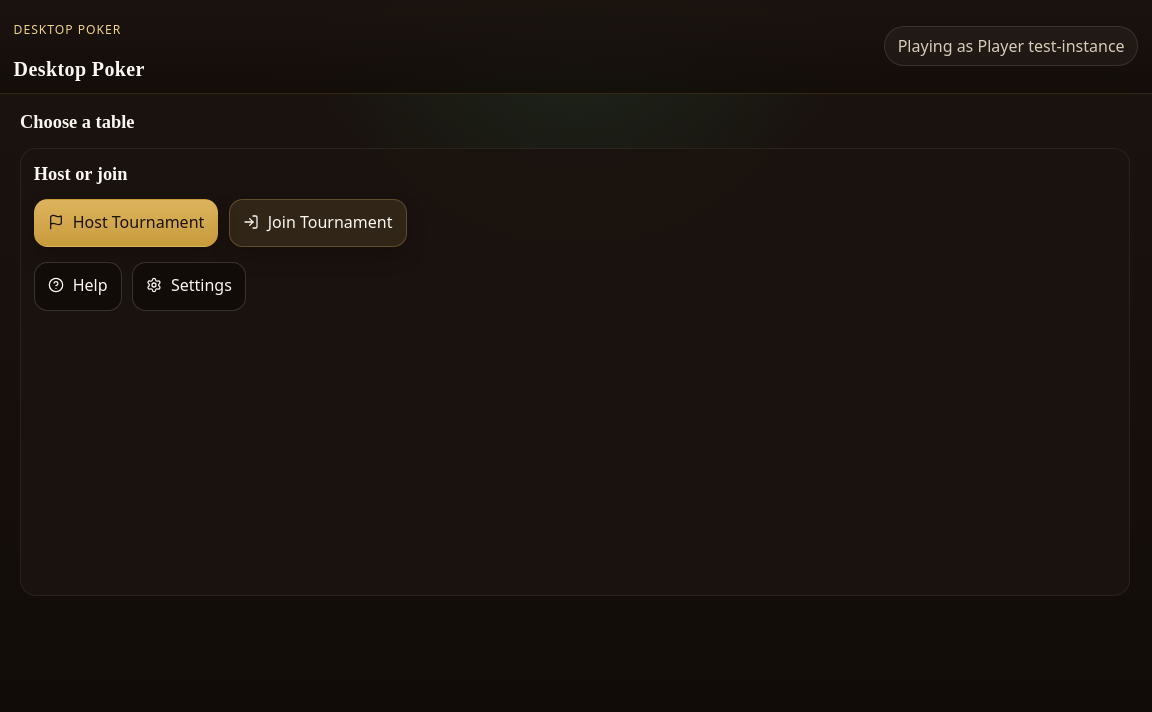
AppShell integration (host and lobby) › moves from home to host setup and keeps the edited host draft in the lobby shell
This screenshot has width=1152, height=712.
Check: the heading "Choose a table" is shown, box left=20, top=109, right=134, bottom=136
Click the link "Host Tournament" at (126, 223), box left=34, top=198, right=218, bottom=247
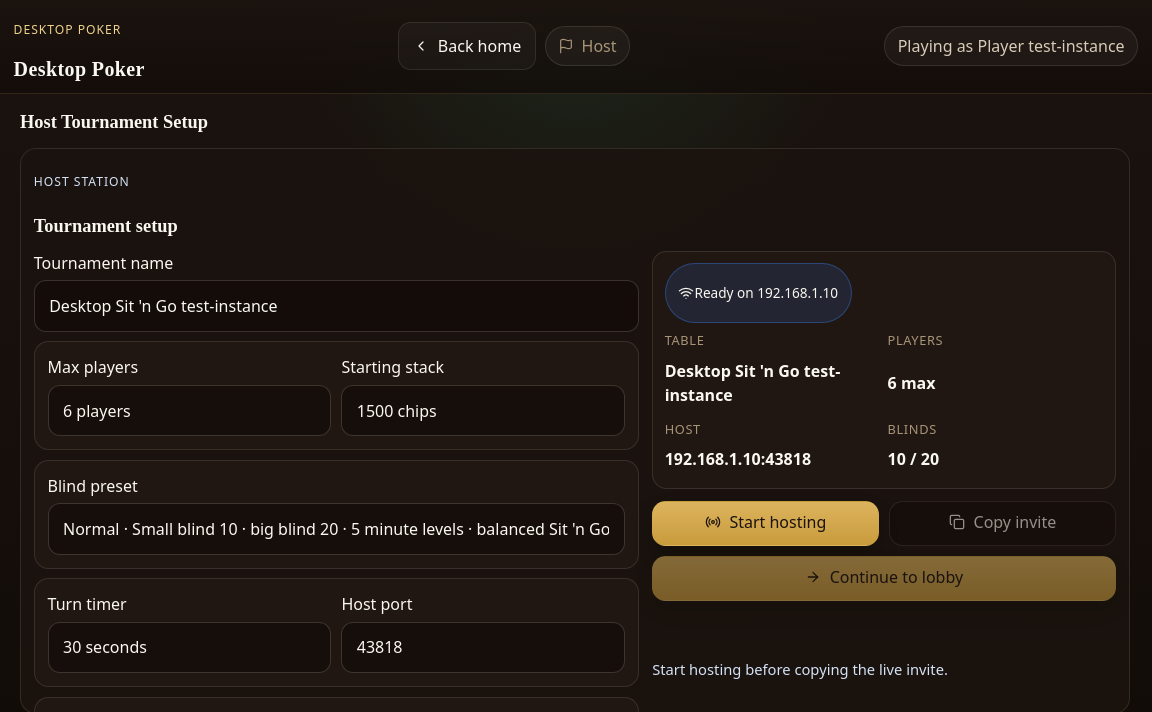
Check: the heading "Host Tournament Setup" is shown, box left=20, top=109, right=208, bottom=136
Replace the text in the field labelled "Tournament name" with "Friday Finals" at (336, 306), box left=34, top=280, right=639, bottom=332
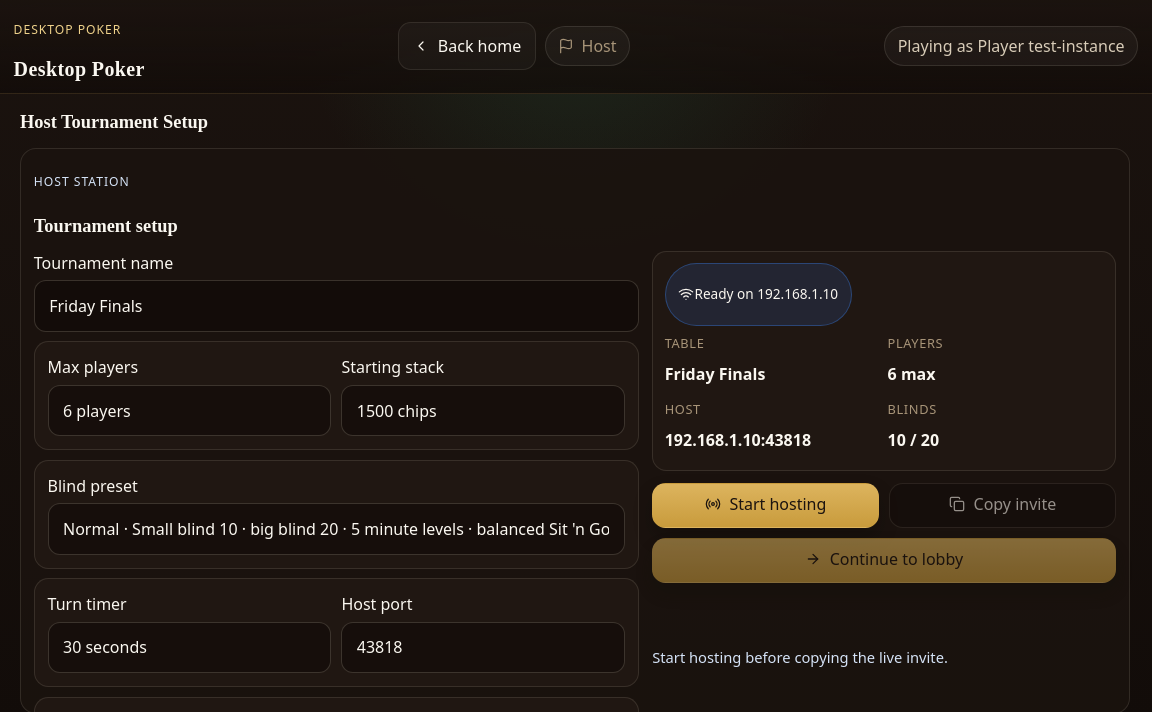
Check: the element named "host share summary" is shown, box left=652, top=251, right=1116, bottom=471
Check: the text "192.168.1.10:43818" is shown, box left=665, top=429, right=811, bottom=451
Check: the text "Friday Finals" is shown, box left=665, top=364, right=765, bottom=386
Click the button "Start hosting" at (766, 505), box left=652, top=483, right=879, bottom=528
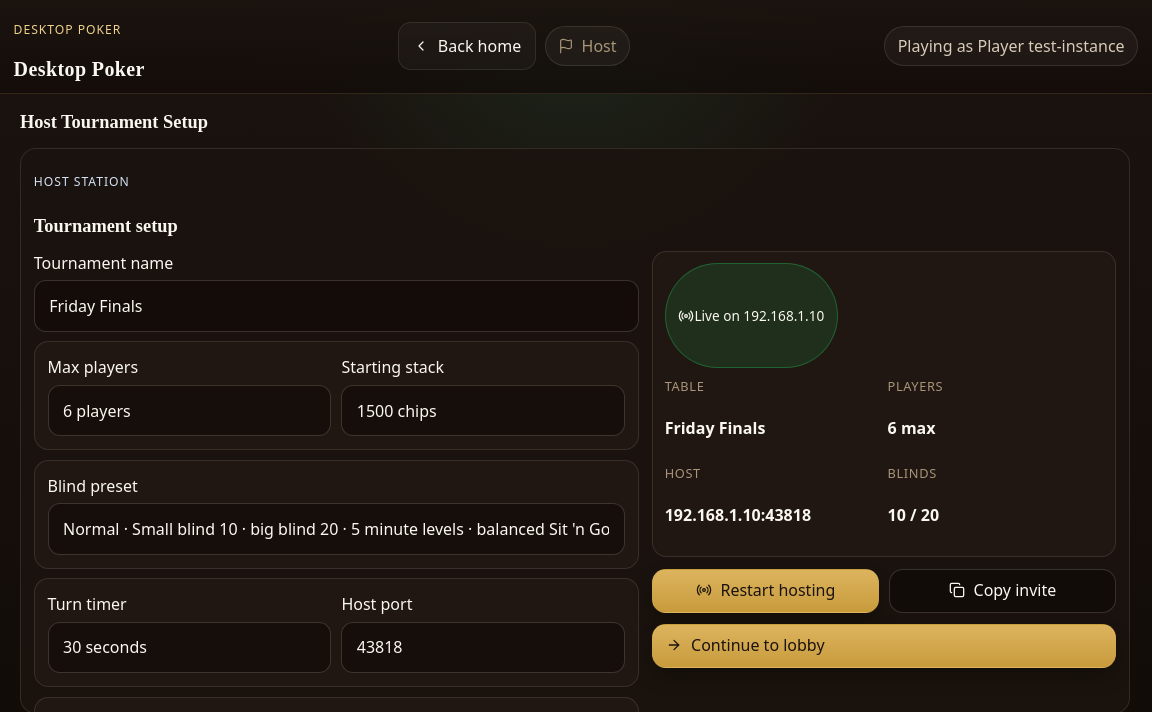
Click the link "Continue to lobby" at (758, 645), box left=652, top=624, right=1116, bottom=668
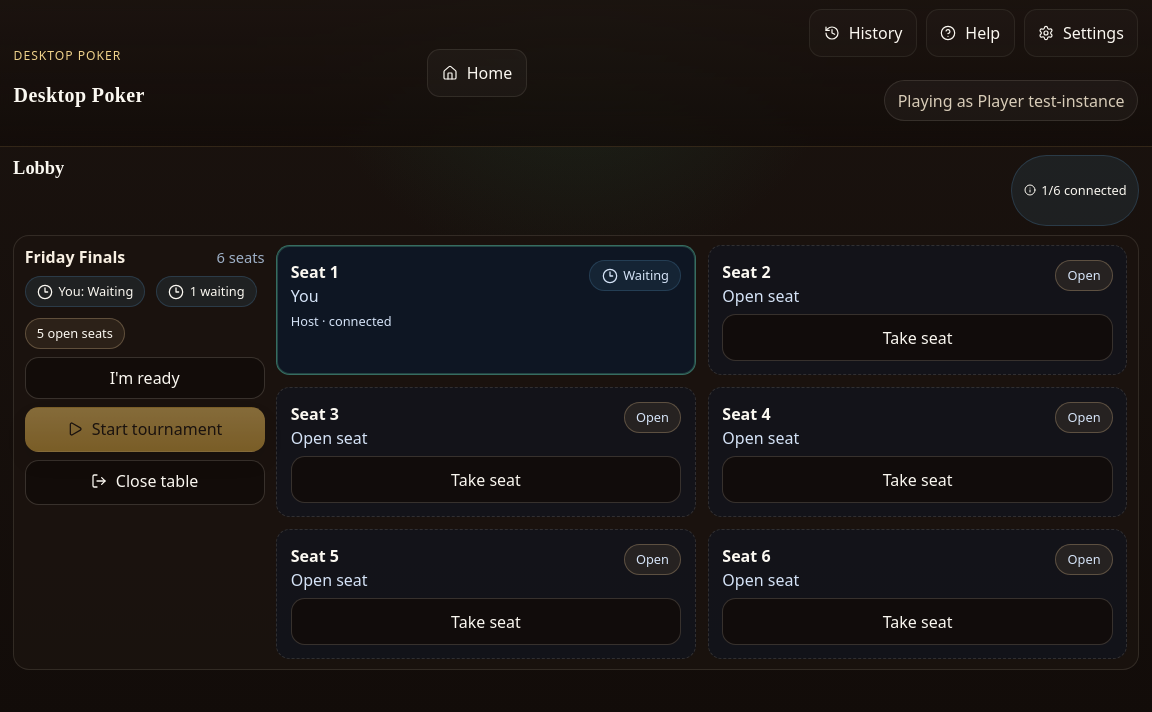
Check: the heading "Lobby" is shown, box left=13, top=158, right=64, bottom=178
Check: the text "Seat 1" is shown, box left=291, top=261, right=339, bottom=283
Check: the text "Seat 6" is shown, box left=722, top=545, right=770, bottom=567
